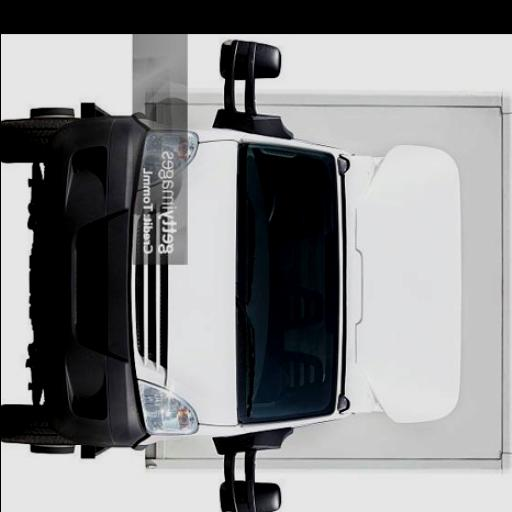truck: (0, 33, 512, 512)
